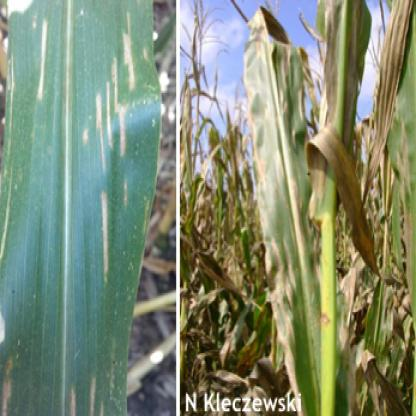Corn leaf blight: (1, 2, 159, 414), (243, 13, 324, 414), (364, 2, 415, 224), (306, 123, 380, 263)
